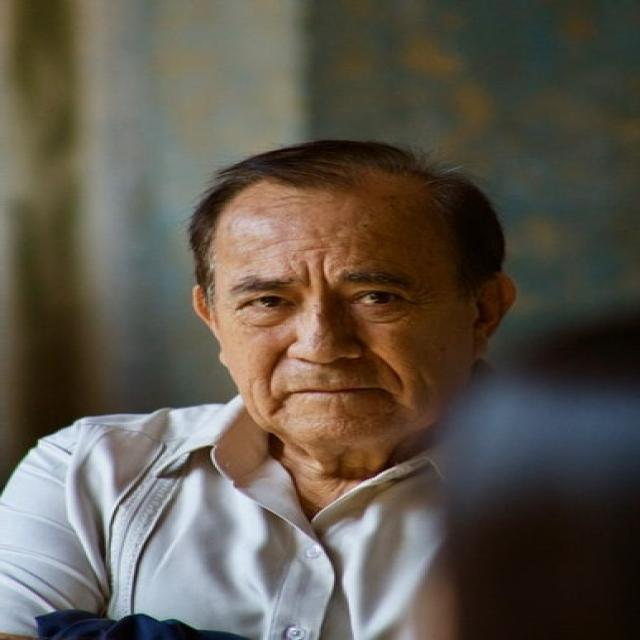Wrinkles: (244, 235, 339, 252), (237, 253, 288, 266), (320, 253, 328, 289), (288, 248, 327, 253), (327, 245, 358, 248), (306, 265, 309, 290)
